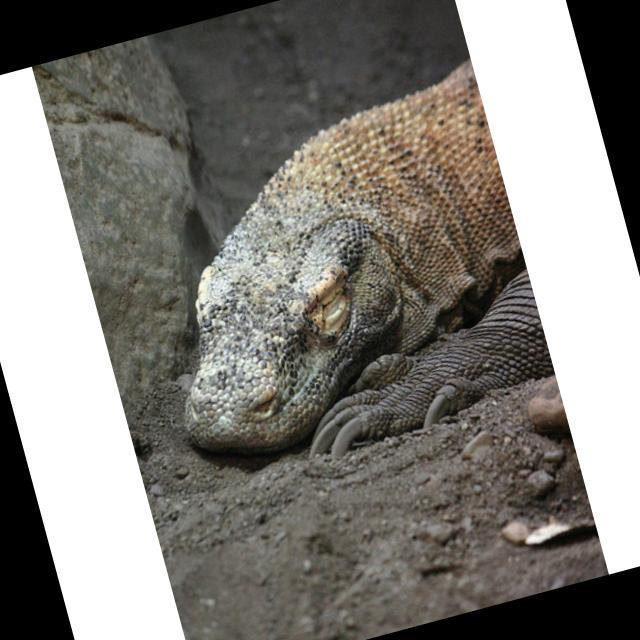KomodoDragon: (111, 59, 557, 491)
